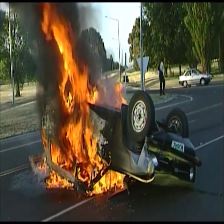fire_h: (42, 1, 111, 184), (90, 170, 125, 197), (46, 168, 74, 190)
fire_l: (114, 82, 127, 109), (37, 156, 49, 173), (41, 127, 48, 150)
